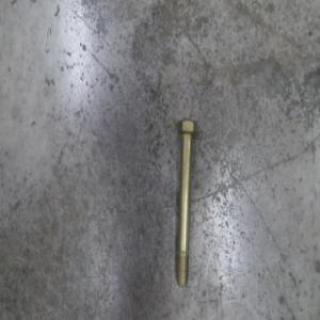Bolttrack_idkeyframe: (174, 118, 196, 290)
